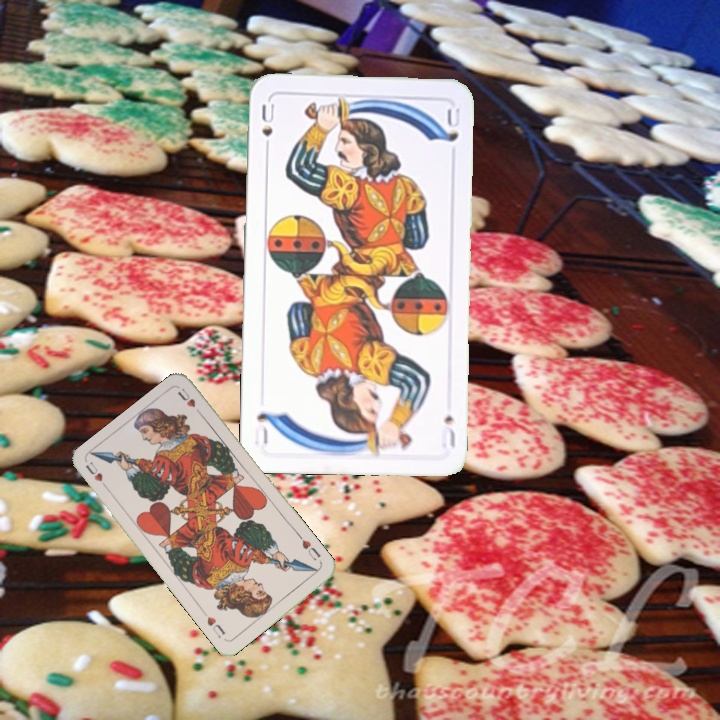HU: (82, 457, 112, 494), (298, 536, 323, 563)
SU: (257, 100, 277, 157), (439, 411, 458, 451)
